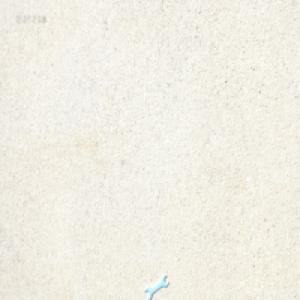Wrench: (145, 272, 169, 297)
